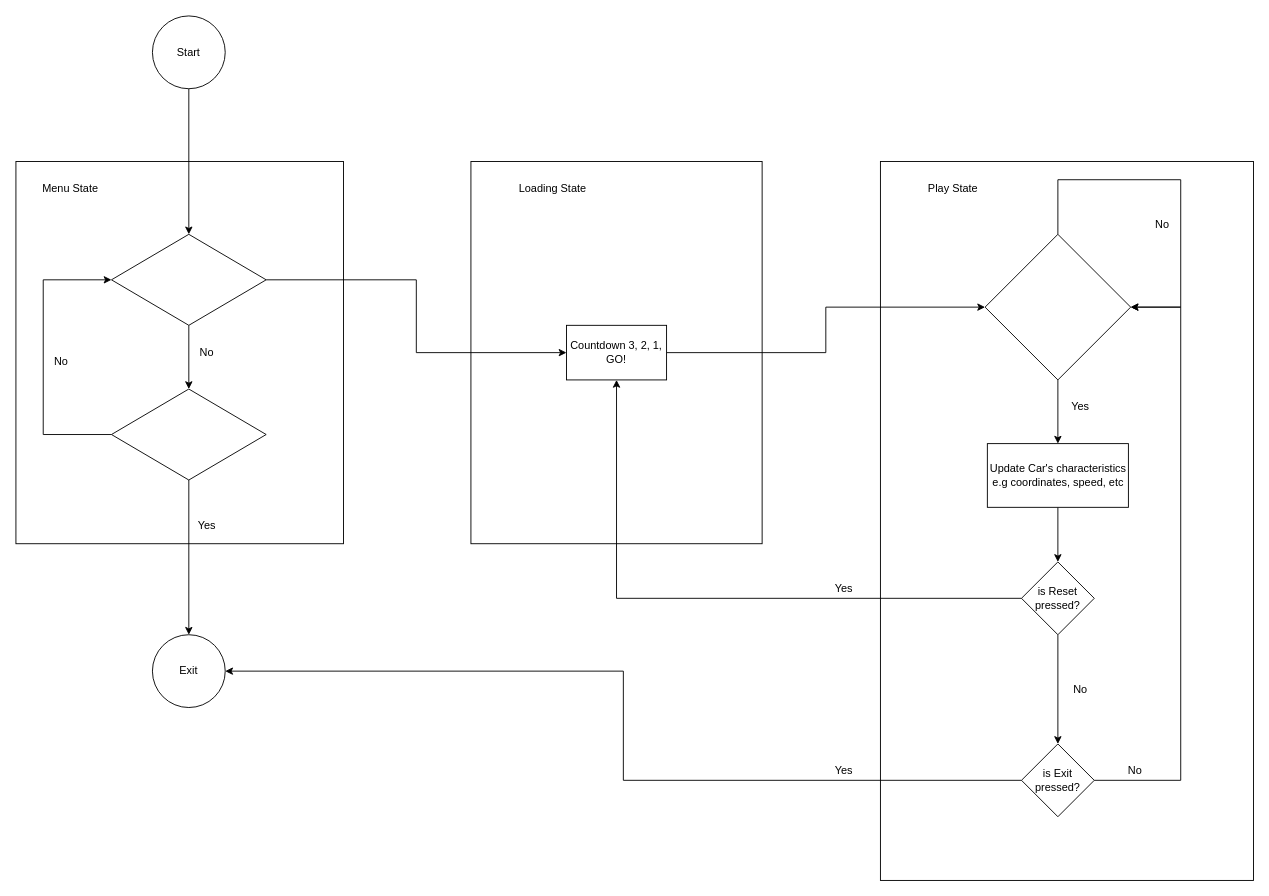
This 1269x896 diagram has some shape labels left out. The shapes that lost their labels are listed below. From the top down, each one's centre as x and y in pixels, then its label:
(x=188, y=279): is "PLAY GAME" clicked?
(x=1057, y=306): Has keyboard keys been pressed?
(x=188, y=434): is "QUITGAME" clicked?
